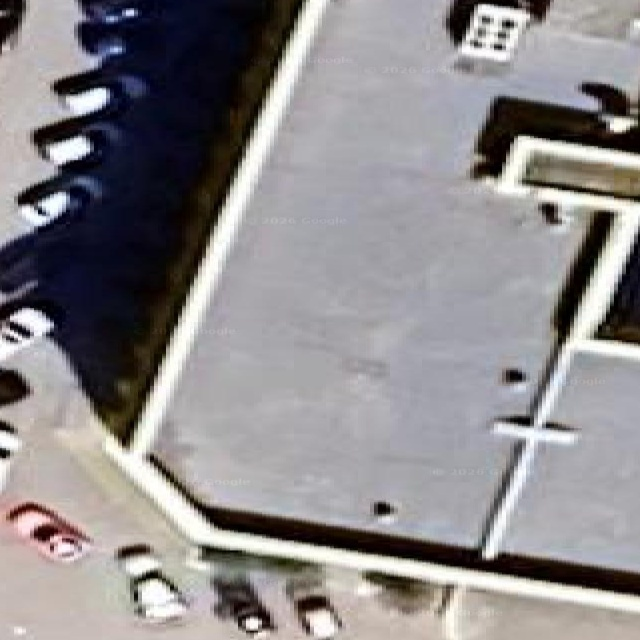car: (116, 546, 187, 622), (7, 504, 91, 562), (212, 575, 275, 635), (51, 68, 128, 116), (32, 120, 108, 167), (16, 183, 91, 227), (287, 579, 342, 639), (0, 307, 52, 360), (77, 20, 128, 62), (293, 596, 340, 639), (80, 0, 154, 23), (0, 422, 20, 491), (0, 0, 24, 51), (0, 367, 30, 406), (0, 422, 13, 432), (136, 80, 143, 83), (13, 435, 16, 436)
